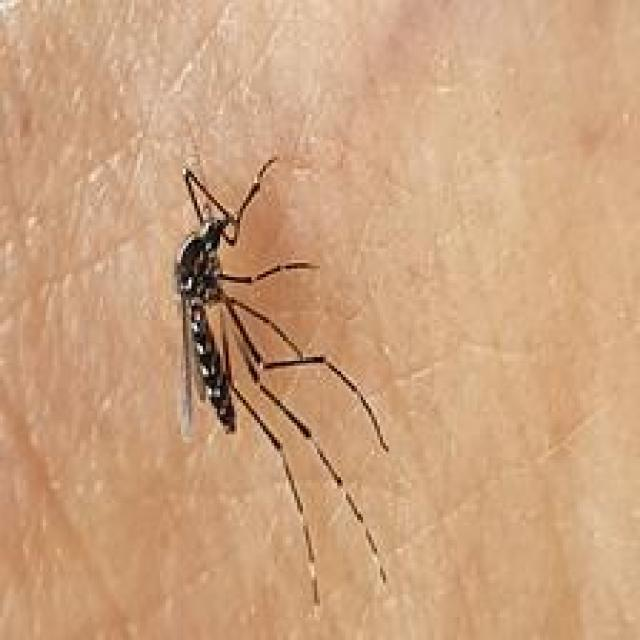Aedes albopictus: (172, 154, 392, 606)
